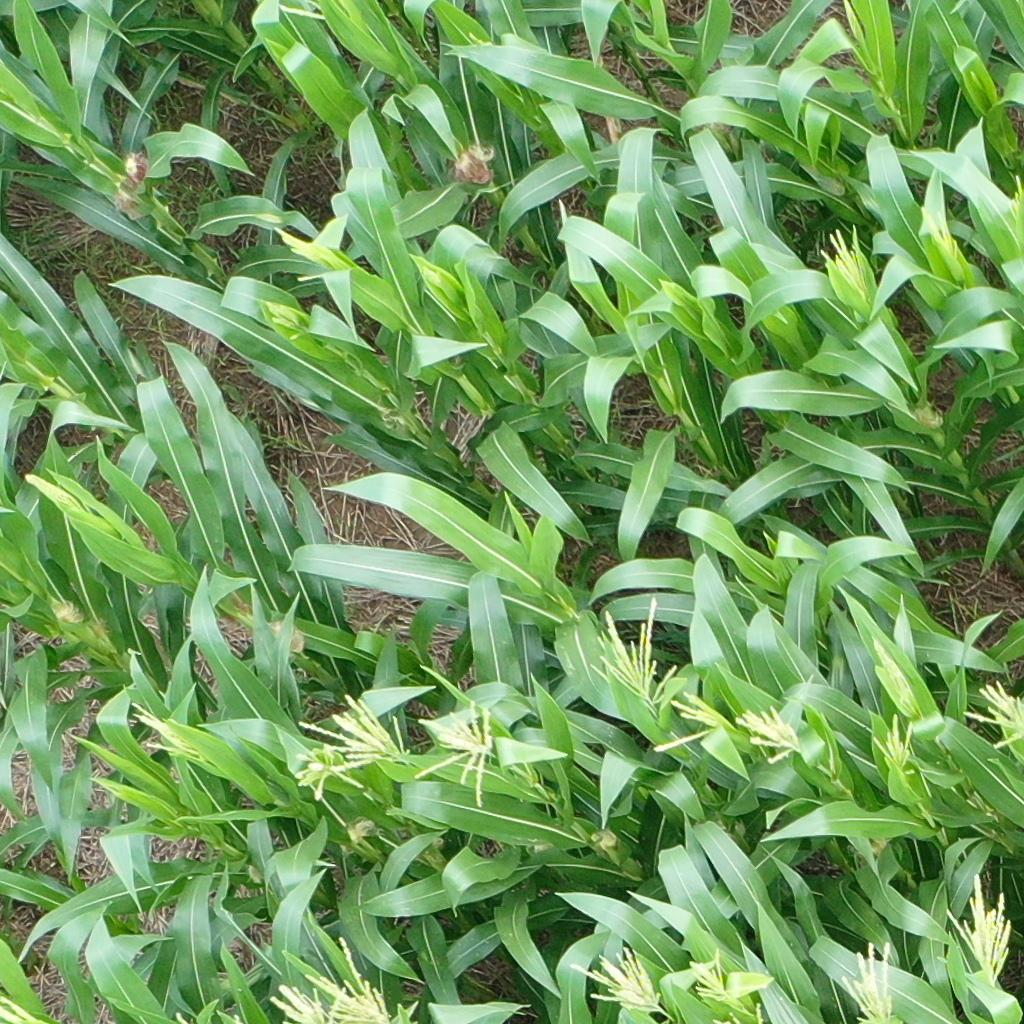Tassel: (291, 687, 412, 801), (267, 936, 413, 1024), (594, 595, 676, 718), (939, 867, 1012, 993), (416, 699, 495, 811), (567, 944, 670, 1016), (685, 948, 767, 1024), (836, 940, 903, 1024), (816, 220, 875, 308), (649, 690, 723, 754), (959, 678, 1024, 749), (125, 703, 199, 761), (267, 216, 342, 272), (736, 701, 800, 764), (867, 638, 915, 708), (870, 709, 915, 775), (22, 472, 89, 510), (914, 206, 959, 254), (265, 305, 302, 336), (1, 995, 38, 1022), (1005, 174, 1024, 215)
